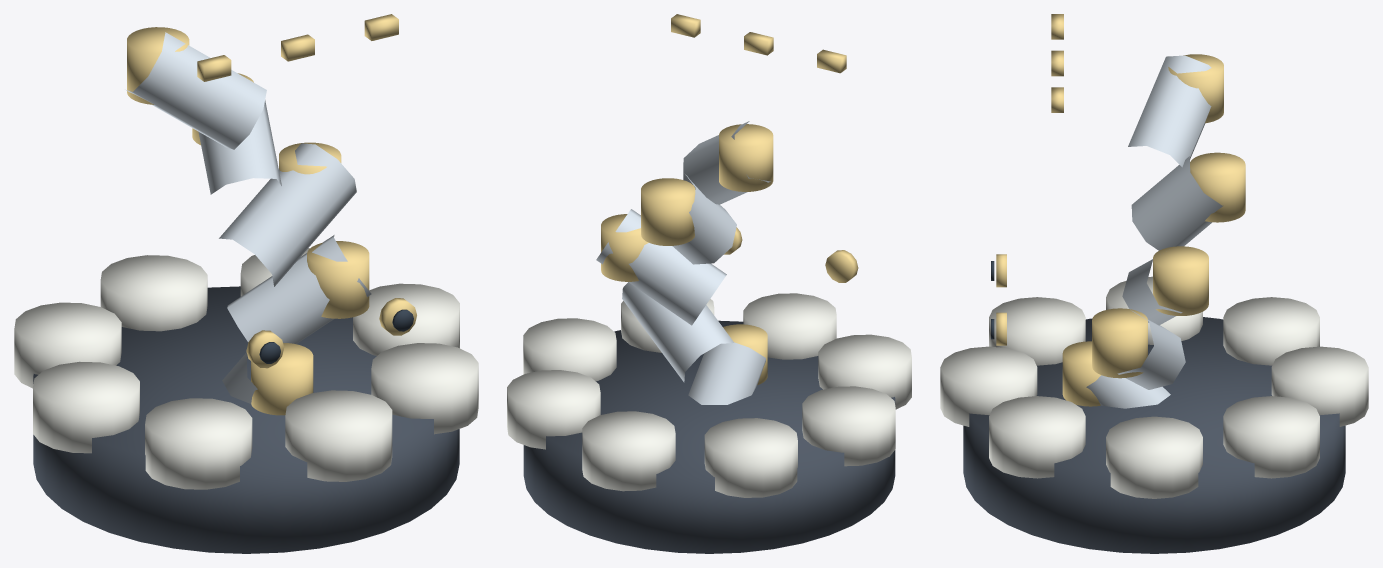
Rendered from 73_L93_CleanSampleTransferArm.glb.
3 renders of one model, left to right at view 1: azimuth 30°, elevation 25°; view 2: azimuth 150°, elevation 25°; view 3: azimuth 270°, elevation 25°, orthographic. The views are drawn at different scales.
Visible parts, largest first — view 1: L92_CleanSampleTransferArm_Part_0003, L92_CleanSampleTransferArm_Part_0000, L92_CleanSampleTransferArm_Part_0001, L92_CleanSampleTransferArm_Part_0002, L92_CleanSampleTransferArm_Part_0004, L92_CleanSampleTransferArm_Part_0005, L92_CleanSampleTransferArm_Part_0007; view 2: L92_CleanSampleTransferArm_Part_0003, L92_CleanSampleTransferArm_Part_0000, L92_CleanSampleTransferArm_Part_0001, L92_CleanSampleTransferArm_Part_0002, L92_CleanSampleTransferArm_Part_0004, L92_CleanSampleTransferArm_Part_0005; view 3: L92_CleanSampleTransferArm_Part_0003, L92_CleanSampleTransferArm_Part_0000, L92_CleanSampleTransferArm_Part_0001, L92_CleanSampleTransferArm_Part_0002, L92_CleanSampleTransferArm_Part_0004.
Boxes of the visible parts, x1=… form: L92_CleanSampleTransferArm_Part_0003: x1=14, y1=248, x2=478, y2=489; L92_CleanSampleTransferArm_Part_0000: x1=33, y1=286, x2=459, y2=553; L92_CleanSampleTransferArm_Part_0001: x1=125, y1=32, x2=371, y2=403; L92_CleanSampleTransferArm_Part_0002: x1=127, y1=27, x2=369, y2=415; L92_CleanSampleTransferArm_Part_0004: x1=197, y1=14, x2=398, y2=81; L92_CleanSampleTransferArm_Part_0005: x1=246, y1=330, x2=284, y2=368; L92_CleanSampleTransferArm_Part_0007: x1=379, y1=298, x2=416, y2=335; L92_CleanSampleTransferArm_Part_0003: x1=507, y1=293, x2=911, y2=497; L92_CleanSampleTransferArm_Part_0000: x1=523, y1=320, x2=895, y2=553; L92_CleanSampleTransferArm_Part_0001: x1=596, y1=121, x2=770, y2=404; L92_CleanSampleTransferArm_Part_0002: x1=601, y1=124, x2=773, y2=384; L92_CleanSampleTransferArm_Part_0004: x1=671, y1=14, x2=846, y2=73; L92_CleanSampleTransferArm_Part_0005: x1=825, y1=250, x2=858, y2=282; L92_CleanSampleTransferArm_Part_0003: x1=940, y1=276, x2=1368, y2=498; L92_CleanSampleTransferArm_Part_0000: x1=963, y1=317, x2=1345, y2=553; L92_CleanSampleTransferArm_Part_0001: x1=1086, y1=55, x2=1223, y2=408; L92_CleanSampleTransferArm_Part_0002: x1=1062, y1=54, x2=1245, y2=406; L92_CleanSampleTransferArm_Part_0004: x1=1051, y1=14, x2=1063, y2=112.
Size of the model in its own units: 1.68 by 1.8 by 1.68.
